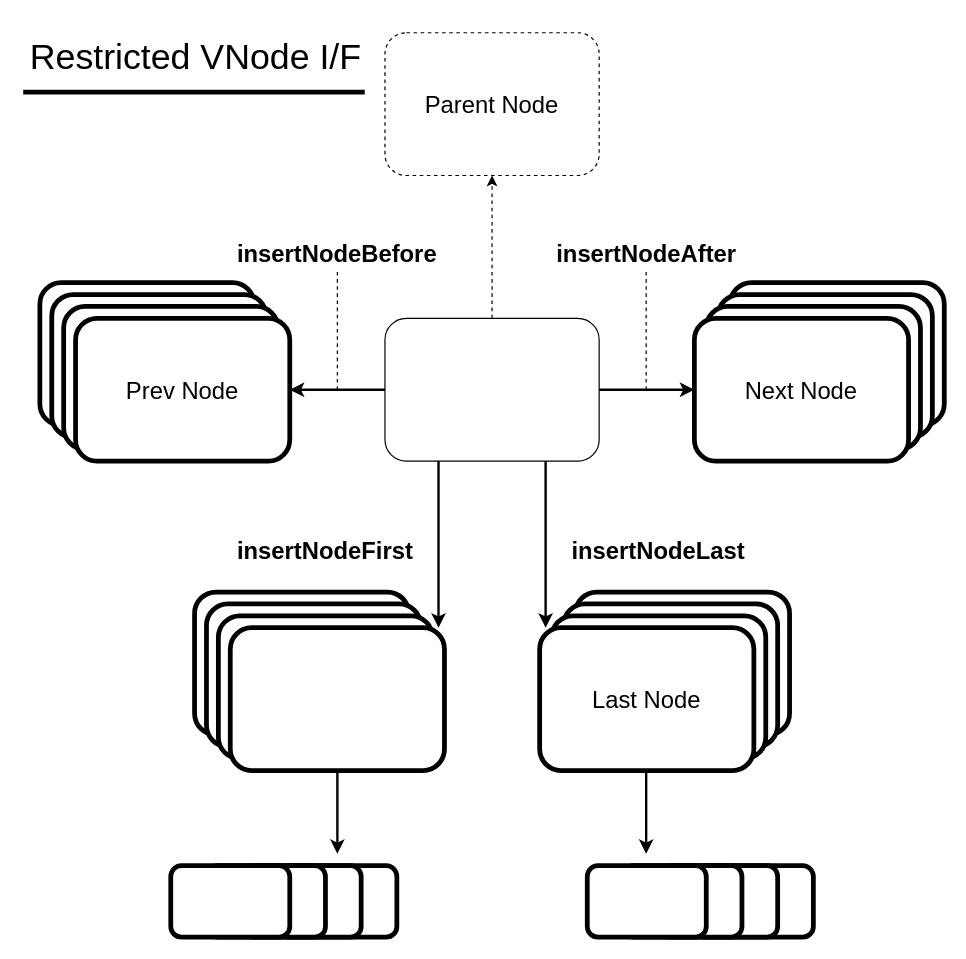
Image size: 966x959. Some labels were removed from this diagram. The shapes that lost their labels are listed below. From the top down, each one's centre as x and y in pixels, then its label:
At point 491,389: "Current Node".
At point 336,698: "First Node".
